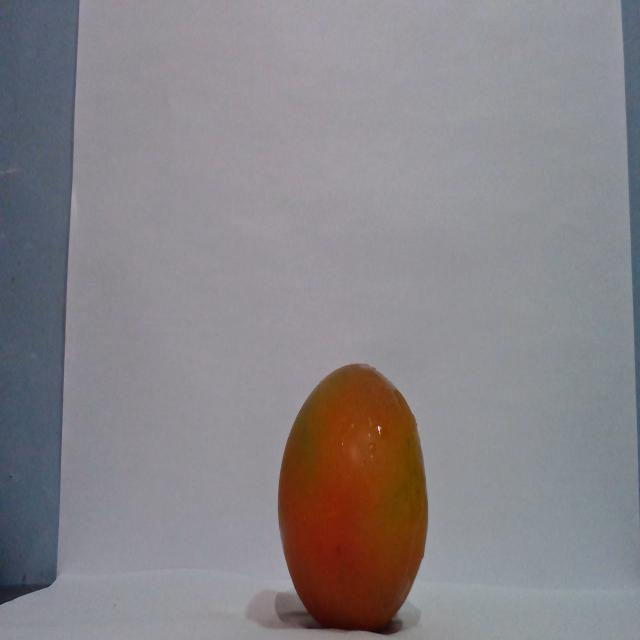Red: (276, 361, 429, 631)
